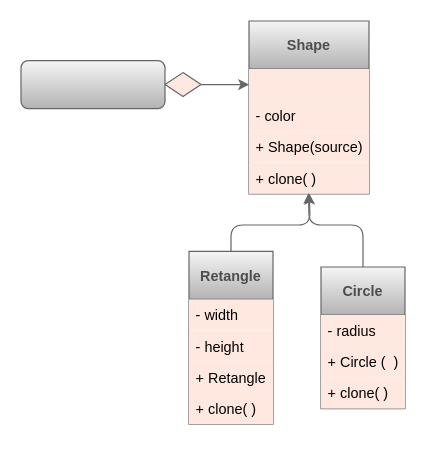
Some shapes in this 426 by 449 pixel diagram are drawn without their labels. The centre of each missing label's shape, as x and y in pixels:
"- x, y" belongs at (308,84).
"Aplication" belongs at (92,84).
